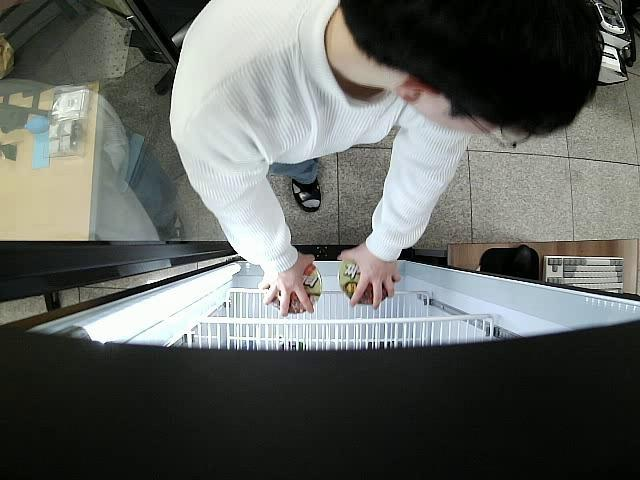03_chapagetti_L: (264, 265, 322, 314), (338, 259, 394, 304)
